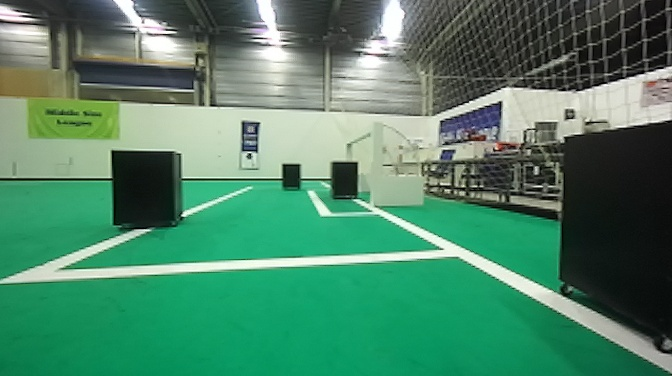goalpost: (371, 125, 375, 209), (340, 138, 352, 161)
